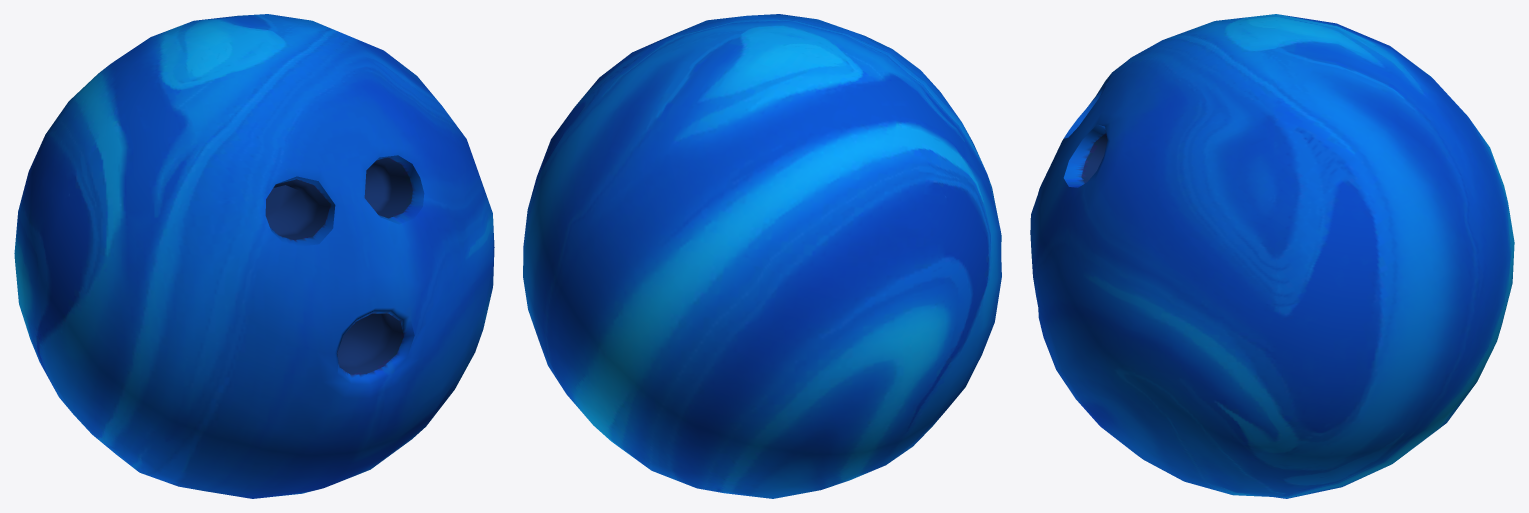
File: 0-bowlingball_blue.fbx
3 views of the same model, side by side, from view 1: azimuth 30°, elevation 25°; view 2: azimuth 150°, elevation 25°; view 3: azimuth 270°, elevation 25° (orthographic).
Visible parts, largest first — view 1: 0-bowlingball_blue; view 2: 0-bowlingball_blue; view 3: 0-bowlingball_blue.
Boxes of the visible parts, bbox=[...] form: 0-bowlingball_blue: bbox=[14, 14, 494, 498]; 0-bowlingball_blue: bbox=[523, 14, 1001, 498]; 0-bowlingball_blue: bbox=[1030, 14, 1514, 498].
Bounding box in the file's own units: 85.44 × 86.02 × 85.91.
